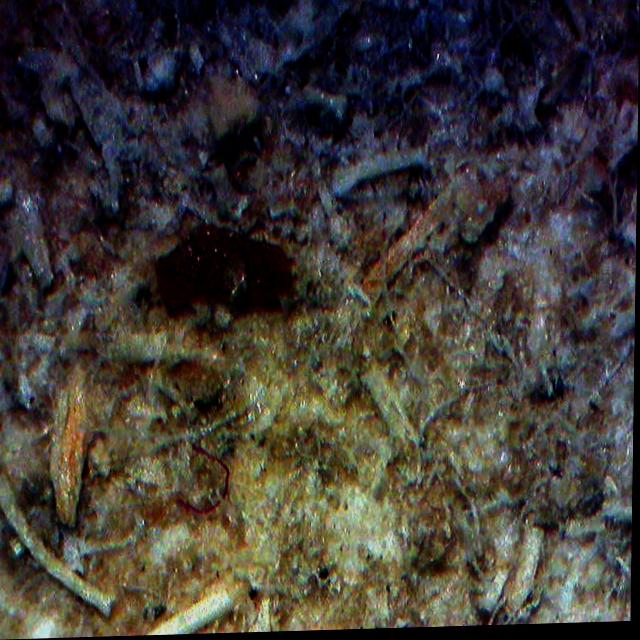microplastic: (176, 446, 233, 517)
